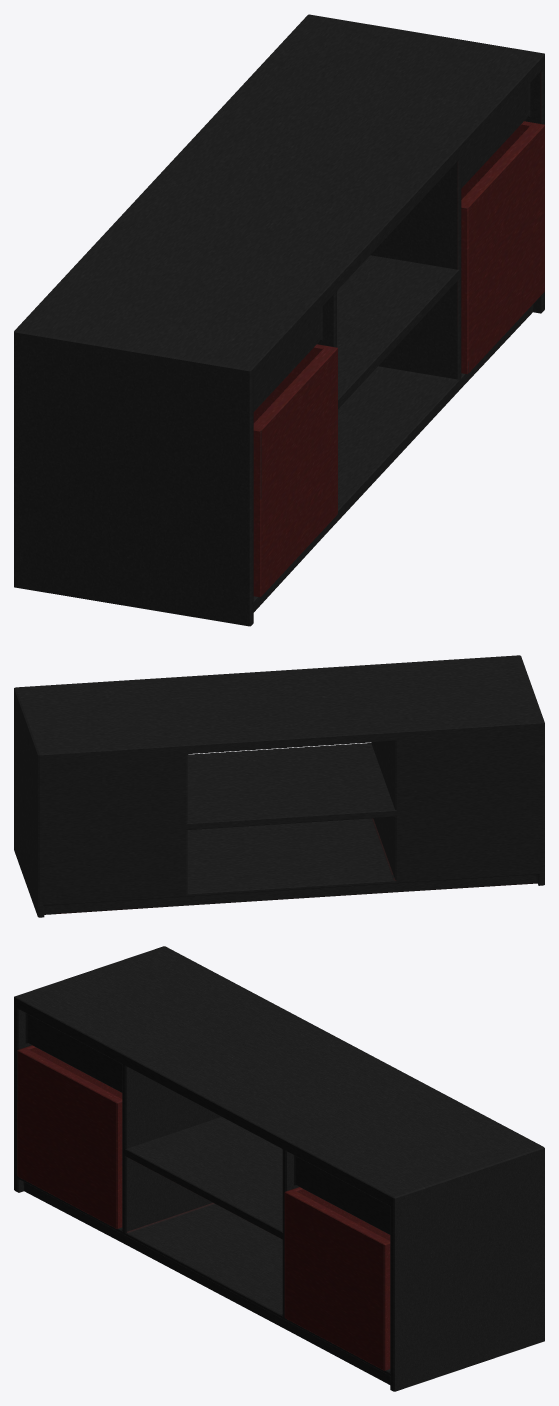
File: cupboard-1.glb
3 renders of one model, top to bottom at view 1: azimuth 30°, elevation 25°; view 2: azimuth 150°, elevation 25°; view 3: azimuth 270°, elevation 25°, orthographic. The views are drawn at different scales.
Visible parts, largest first — view 1: capboard.001; view 2: capboard.001; view 3: capboard.001.
Boxes of the visible parts, x1,y1,x2,y2 form: capboard.001: (14, 14, 544, 626); capboard.001: (14, 655, 544, 917); capboard.001: (14, 946, 544, 1391).
Size of the model in its own units: 1.69 by 0.608 by 1.51.
Materials: 1 (1 with a texture image).
